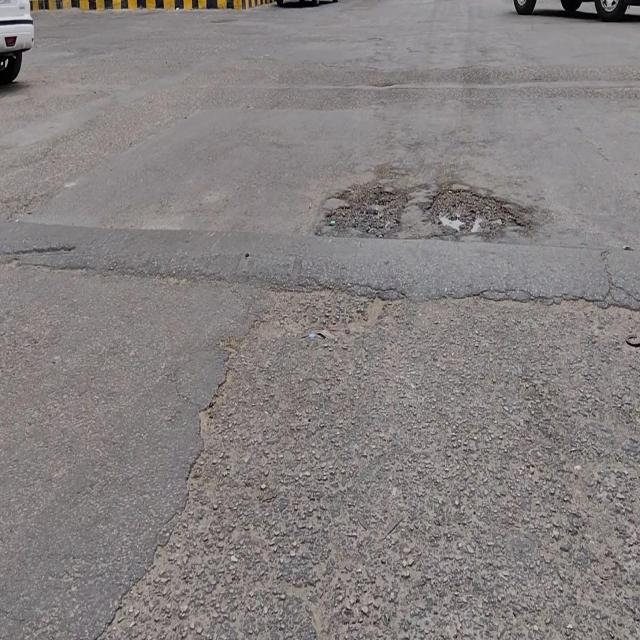Potholes: (423, 185, 529, 239), (326, 182, 408, 235)
